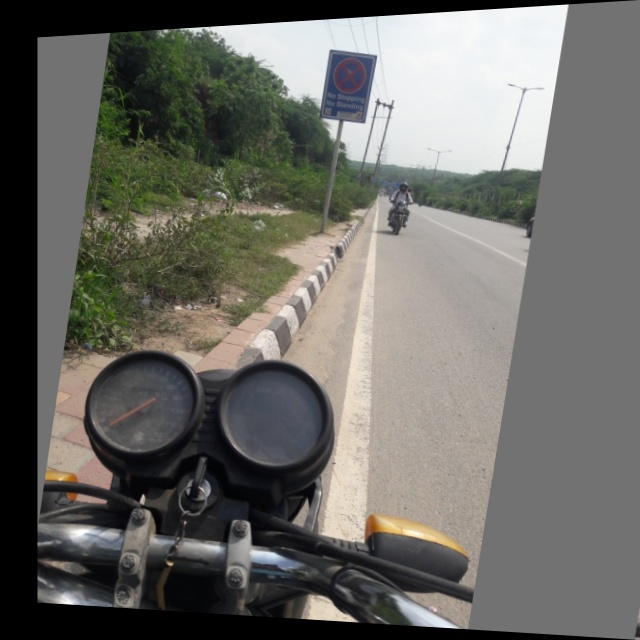No_Stopping_or_Standing: (323, 47, 378, 103)
